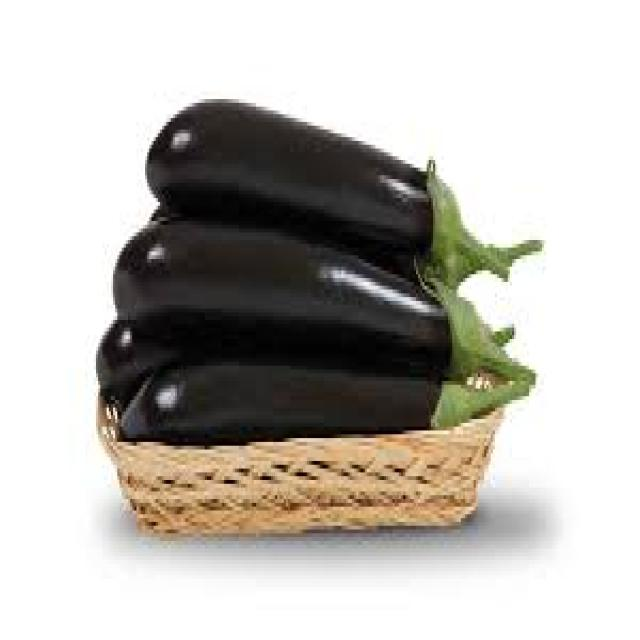eggplant: (102, 217, 474, 373), (143, 99, 454, 251), (94, 305, 493, 400), (111, 362, 471, 446)
